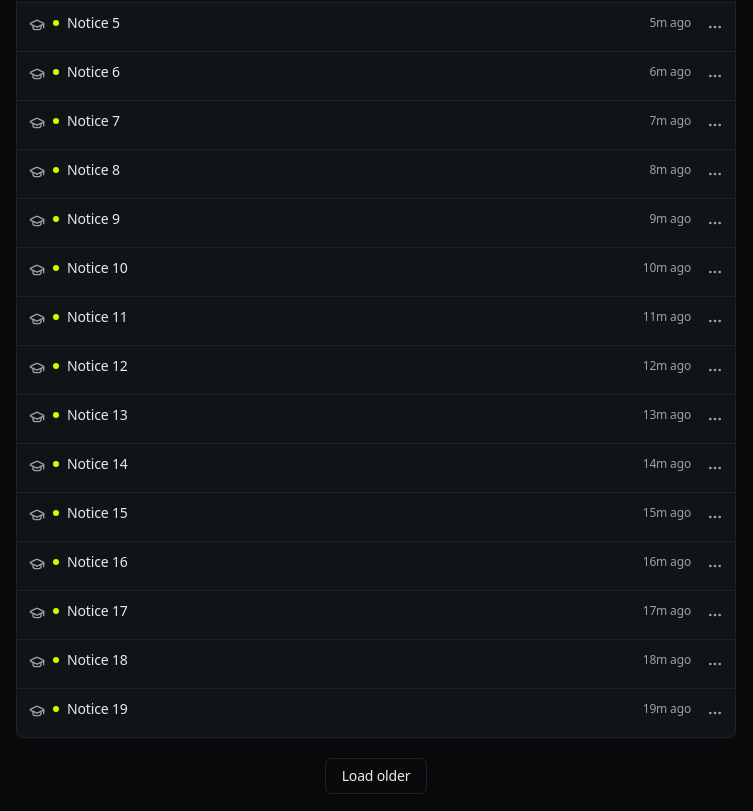
Test: NotificationsPage › renders the first page and loads older rows via the cursor
The width and height of the screenshot is (753, 811).
(page scrolled)
Expected: the text "Notice 19" is shown, top-left (67, 699), bottom-right (128, 719)
Expected: the text "Notice 20" is not shown
Step 1. Click the button "Load older" → coordinates (376, 776), box top-left (325, 758), bottom-right (427, 794)
(page scrolled)
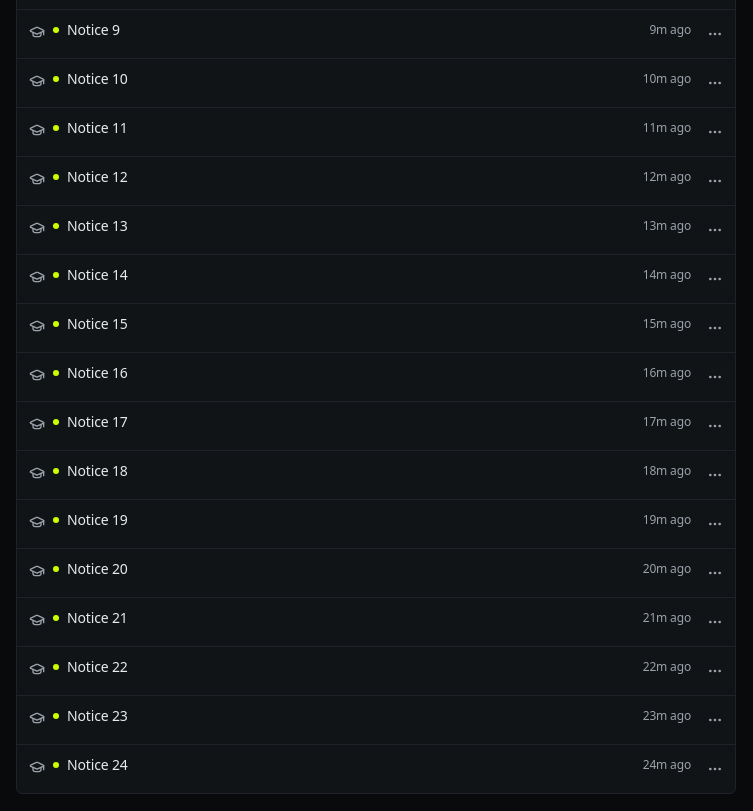
Expected: the text "Notice 24" is shown, top-left (67, 755), bottom-right (128, 775)
Expected: the button "Load older" is gone
